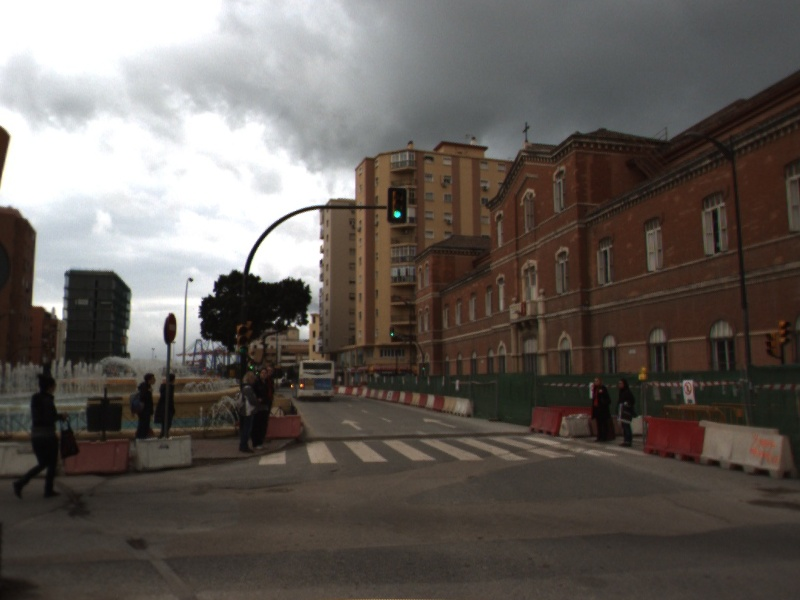STRAIGHT: (422, 416, 459, 431), (339, 417, 365, 432)
